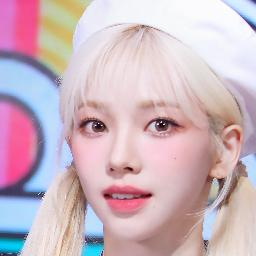face: (77, 70, 201, 234)
